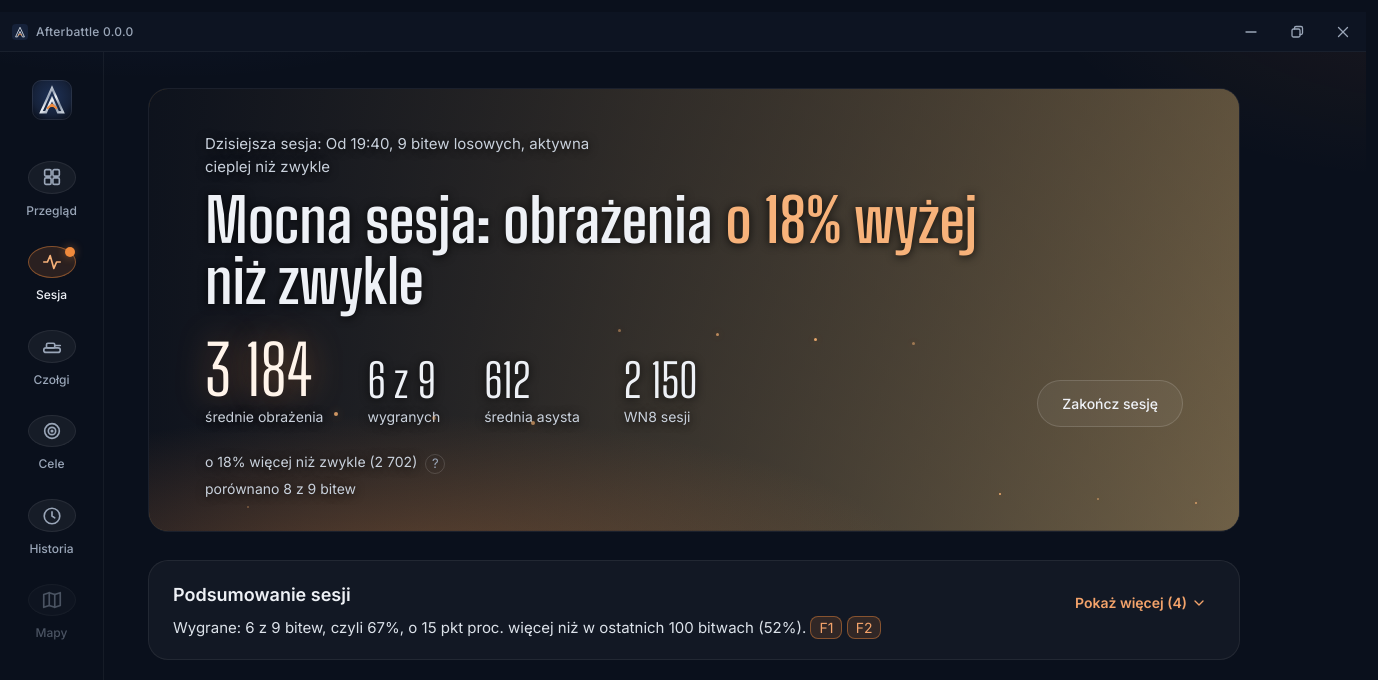
it: wide layouts (E5-ui §1, §5) › History: rows on a map strip with survival in words and destroyed for wide screens
This screenshot has width=1378, height=680.
Click the button "Historia" at (52, 529), box [20,498,84,559]
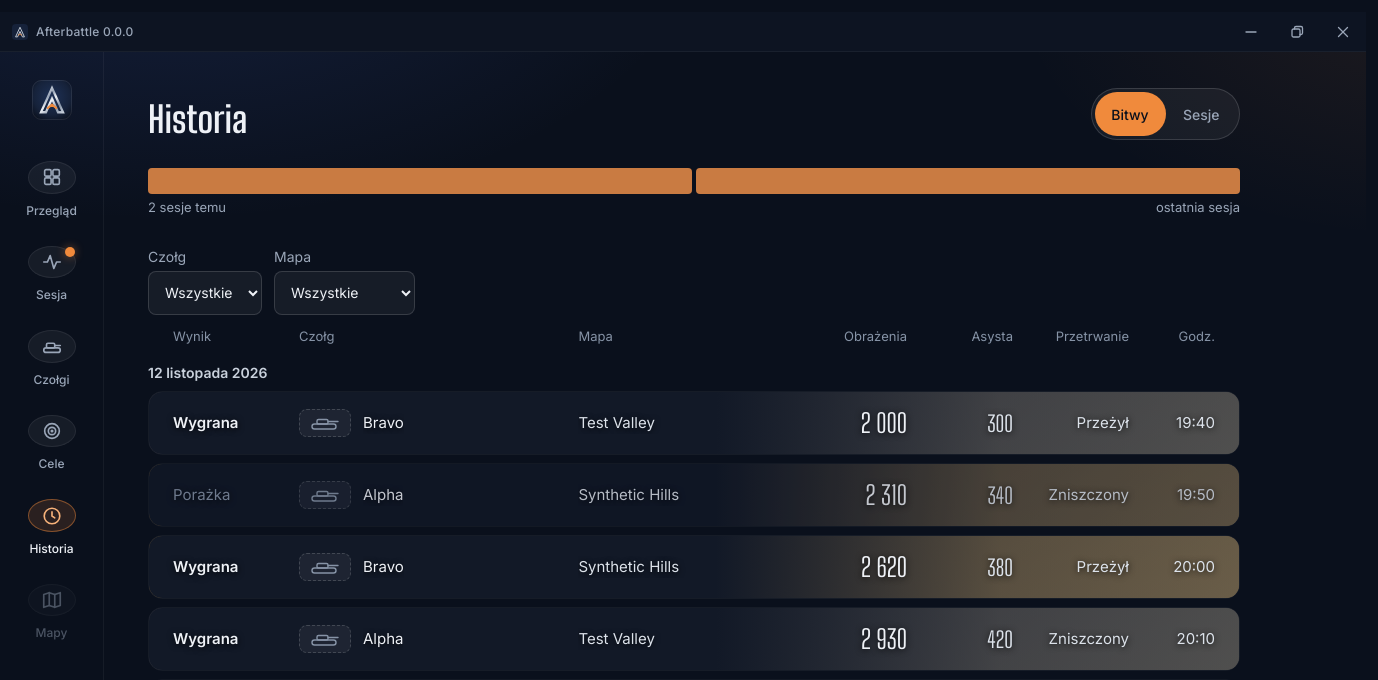
Check: the element with class "hrow-head" shows "Przetrwanie", box [1056,328,1129,344]
Check: the 1st text with class "hrow-survival" reads "Przeżył", box [1077,413,1129,432]
